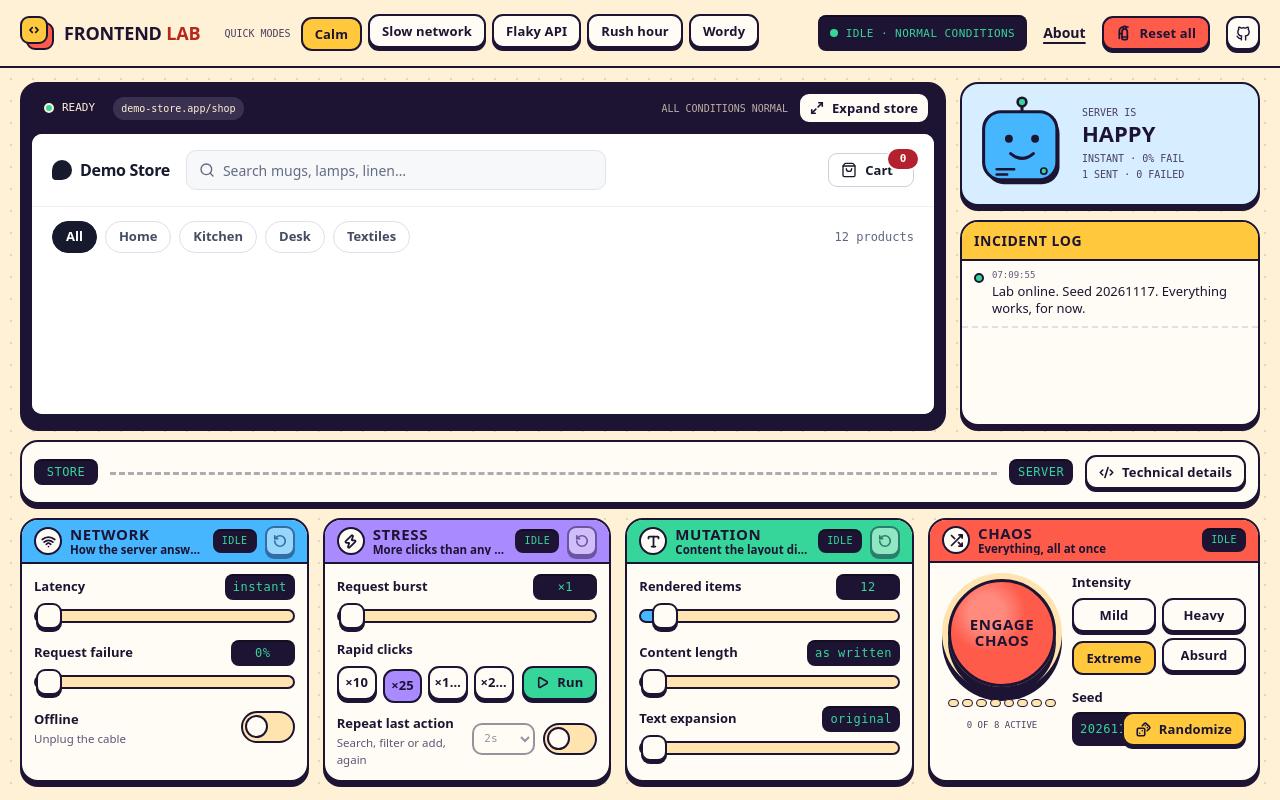
it: Playground › runs rapid clicks through the cart
Click the button "×10": x=357, y=682 top-left (337, 666), bottom-right (377, 700)
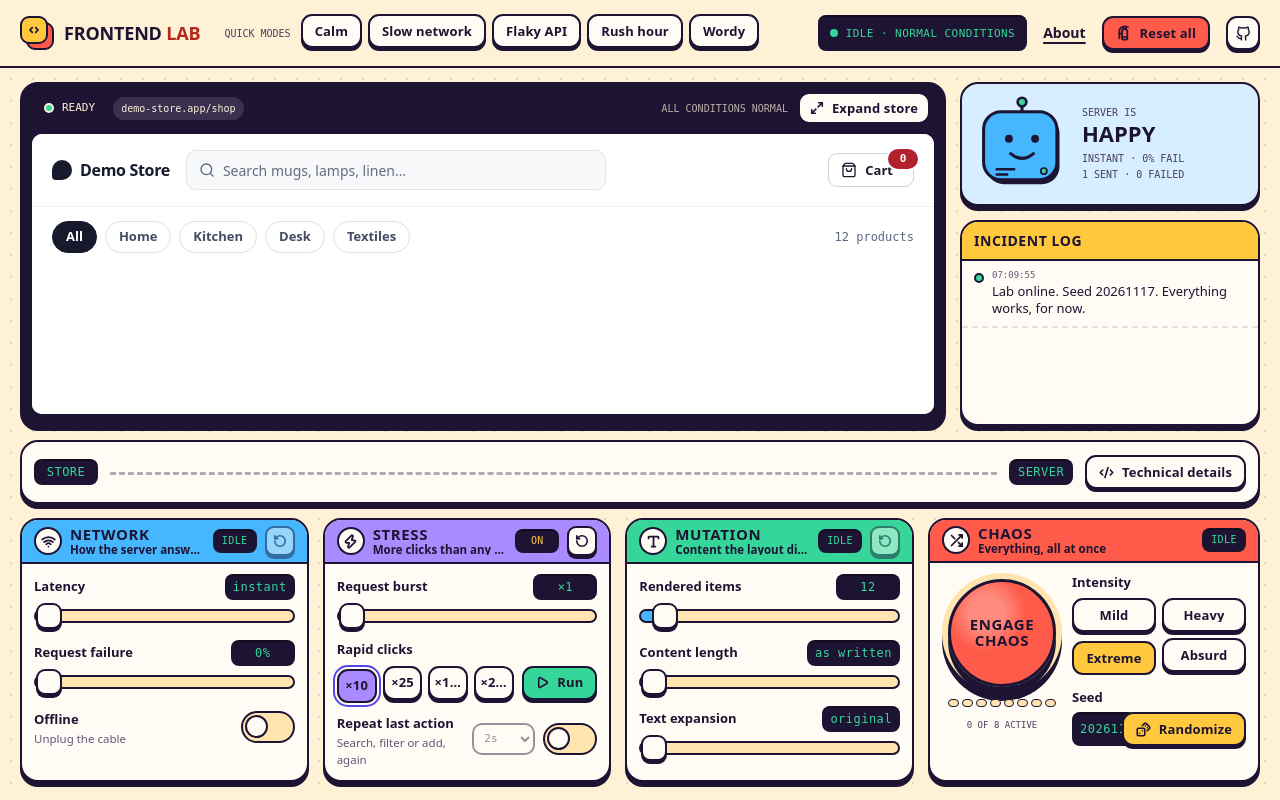
Click the button with aria-label "Simulate 10 rapid clicks": x=560, y=682 top-left (522, 666), bottom-right (597, 700)
Wait 680 ms
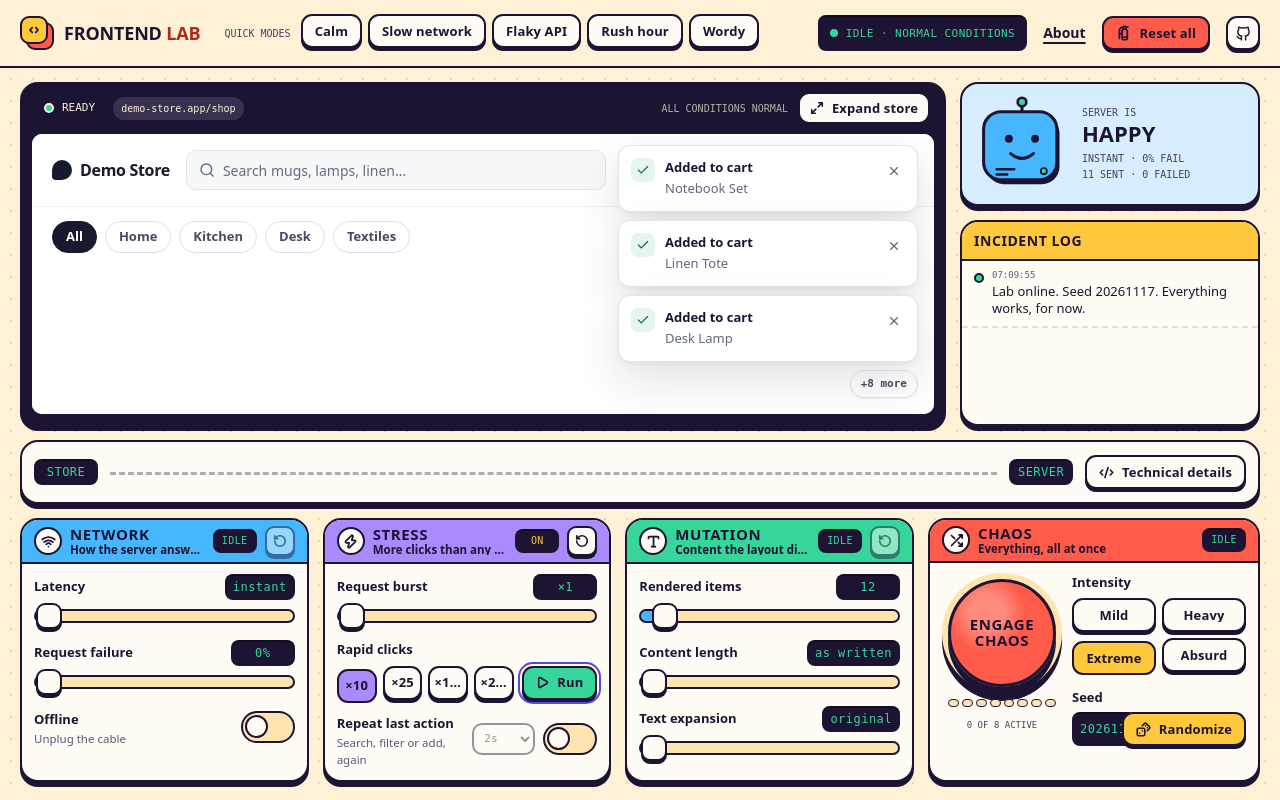
Expected: the button with aria-label "Cart, 10 items" is shown, top-left (828, 153), bottom-right (914, 187)
